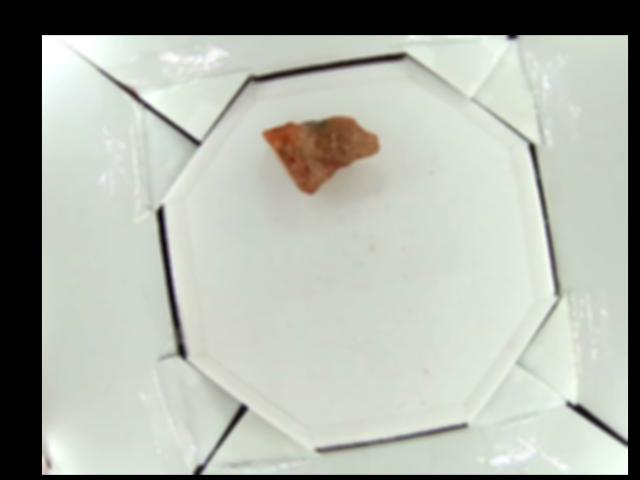Brisk: (261, 116, 378, 195)
